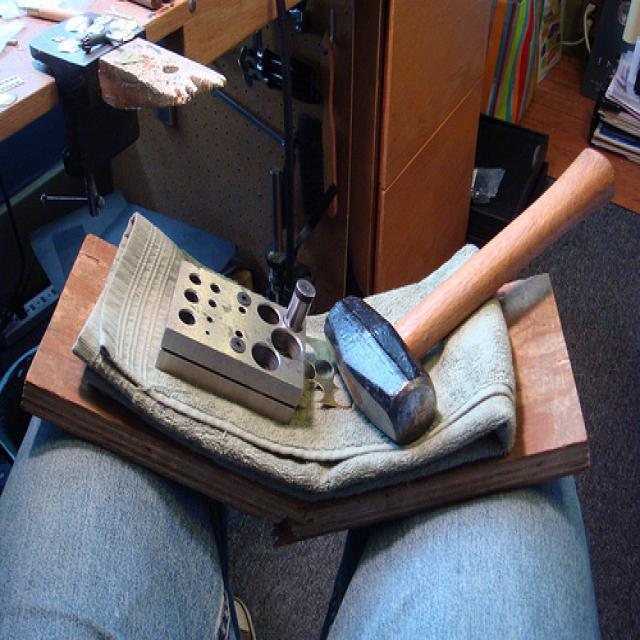hammer: (320, 130, 620, 456)
